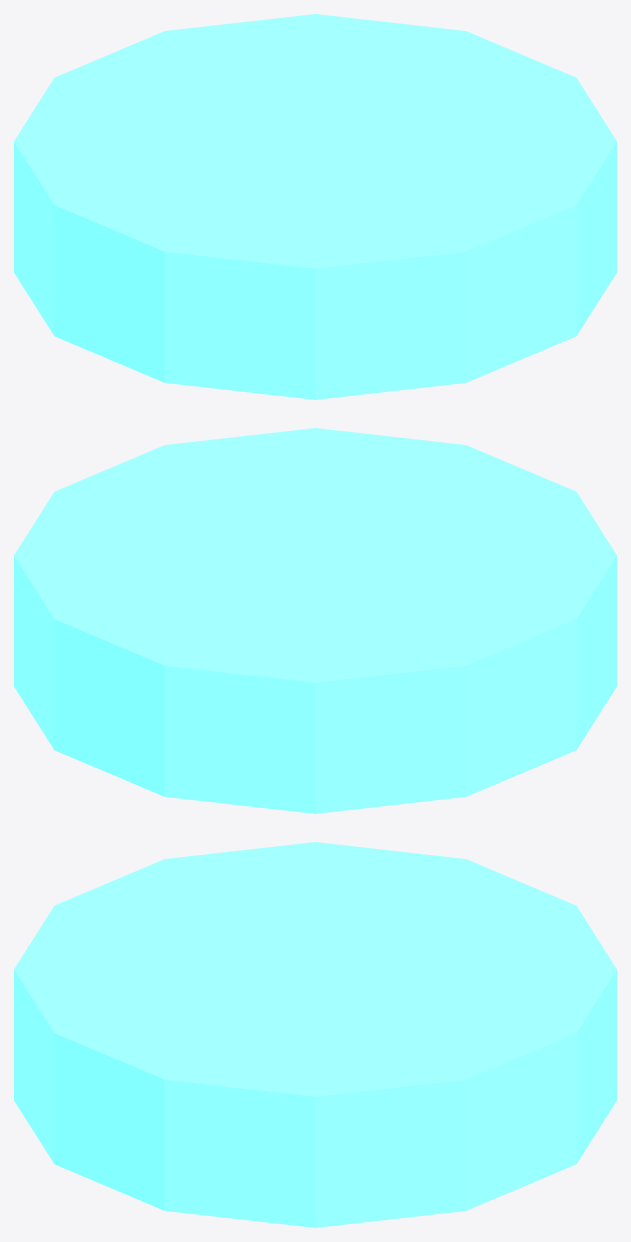
Rendered from fx_sonar_ring.glb.
3 renders of one model, top to bottom at view 1: azimuth 30°, elevation 25°; view 2: azimuth 150°, elevation 25°; view 3: azimuth 270°, elevation 25°, orthographic.
Parts seen in each view (by area): view 1: fx_sonar_ring_glow; view 2: fx_sonar_ring_glow; view 3: fx_sonar_ring_glow.
Boxes of the visible parts, left/top/right/bottom form: fx_sonar_ring_glow: left=14, top=14, right=616, bottom=399; fx_sonar_ring_glow: left=14, top=428, right=616, bottom=813; fx_sonar_ring_glow: left=14, top=842, right=616, bottom=1227.
Size of what is drawn, in the model's own units: 0.5 by 0.12 by 0.5.
